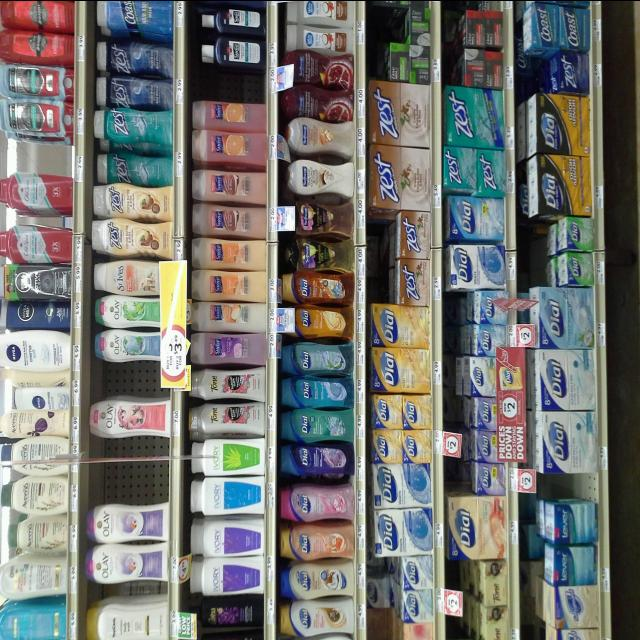empty_space: (94, 446, 167, 494), (98, 358, 161, 390), (542, 478, 598, 494)
